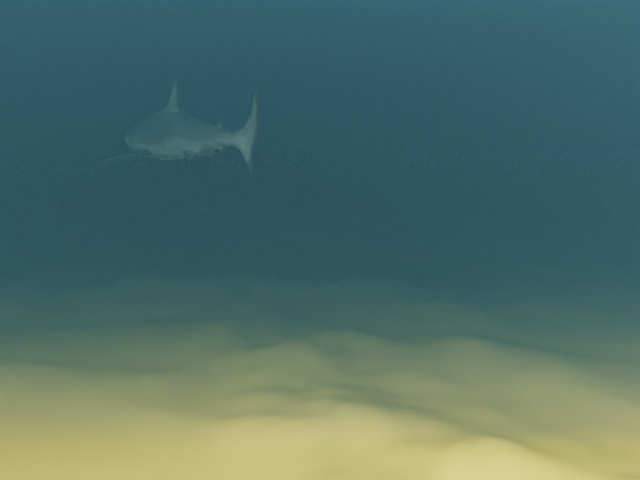Carribean Shark.001: (95, 79, 260, 173)
